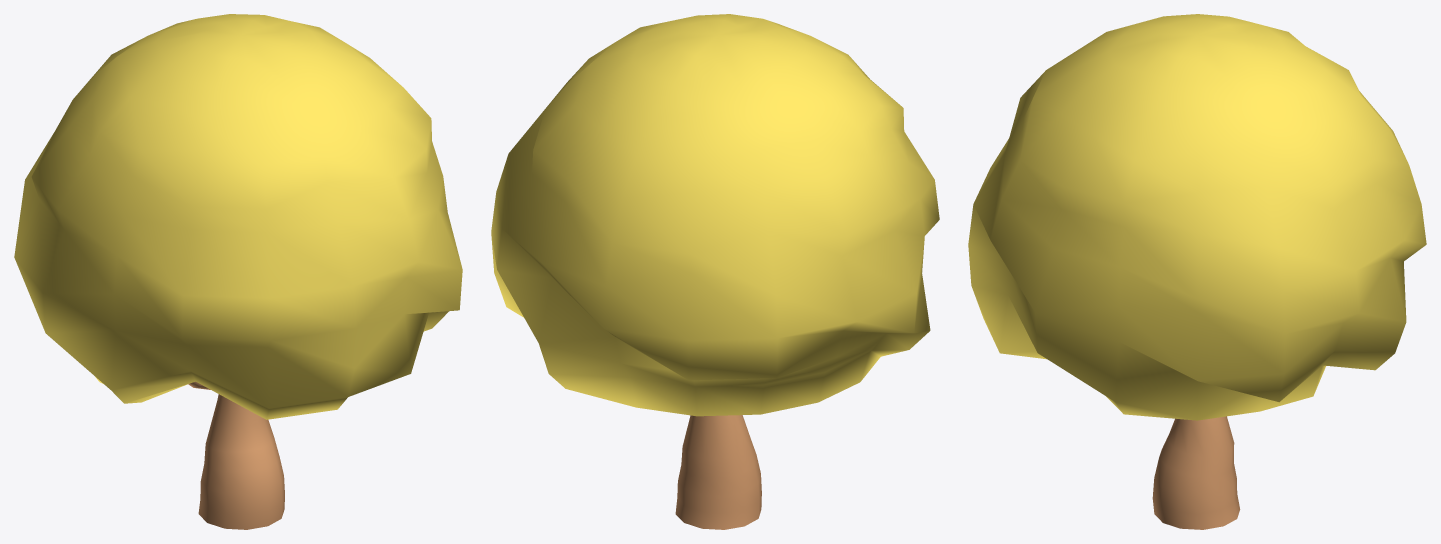
The model's file is ArbolSeco_04.fbx.
The picture shows the model from 3 angles, left to right: view 1: azimuth 30°, elevation 25°; view 2: azimuth 150°, elevation 25°; view 3: azimuth 270°, elevation 25°; orthographic projection.
Parts seen in each view (by area): view 1: ArbolSeco_04; view 2: ArbolSeco_04; view 3: ArbolSeco_04.
Part boxes in pixels (x1,y1,x2,y2): ArbolSeco_04: (14, 14, 462, 529); ArbolSeco_04: (491, 14, 939, 529); ArbolSeco_04: (968, 14, 1426, 529).
Size of the model in its own units: 2528 by 2921 by 2545.
